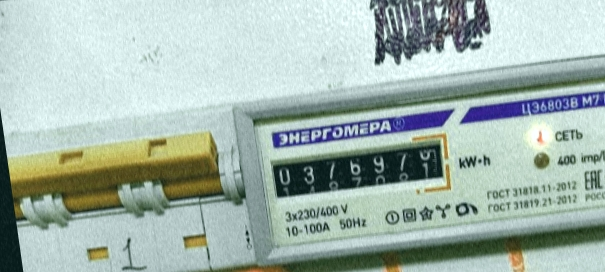0: (276, 166, 292, 188)
1: (419, 161, 432, 180)
3: (300, 164, 316, 186)
6: (346, 155, 362, 178)
7: (323, 159, 339, 182), (394, 150, 409, 174)
9: (370, 154, 385, 176)
screen: (261, 128, 458, 217)
